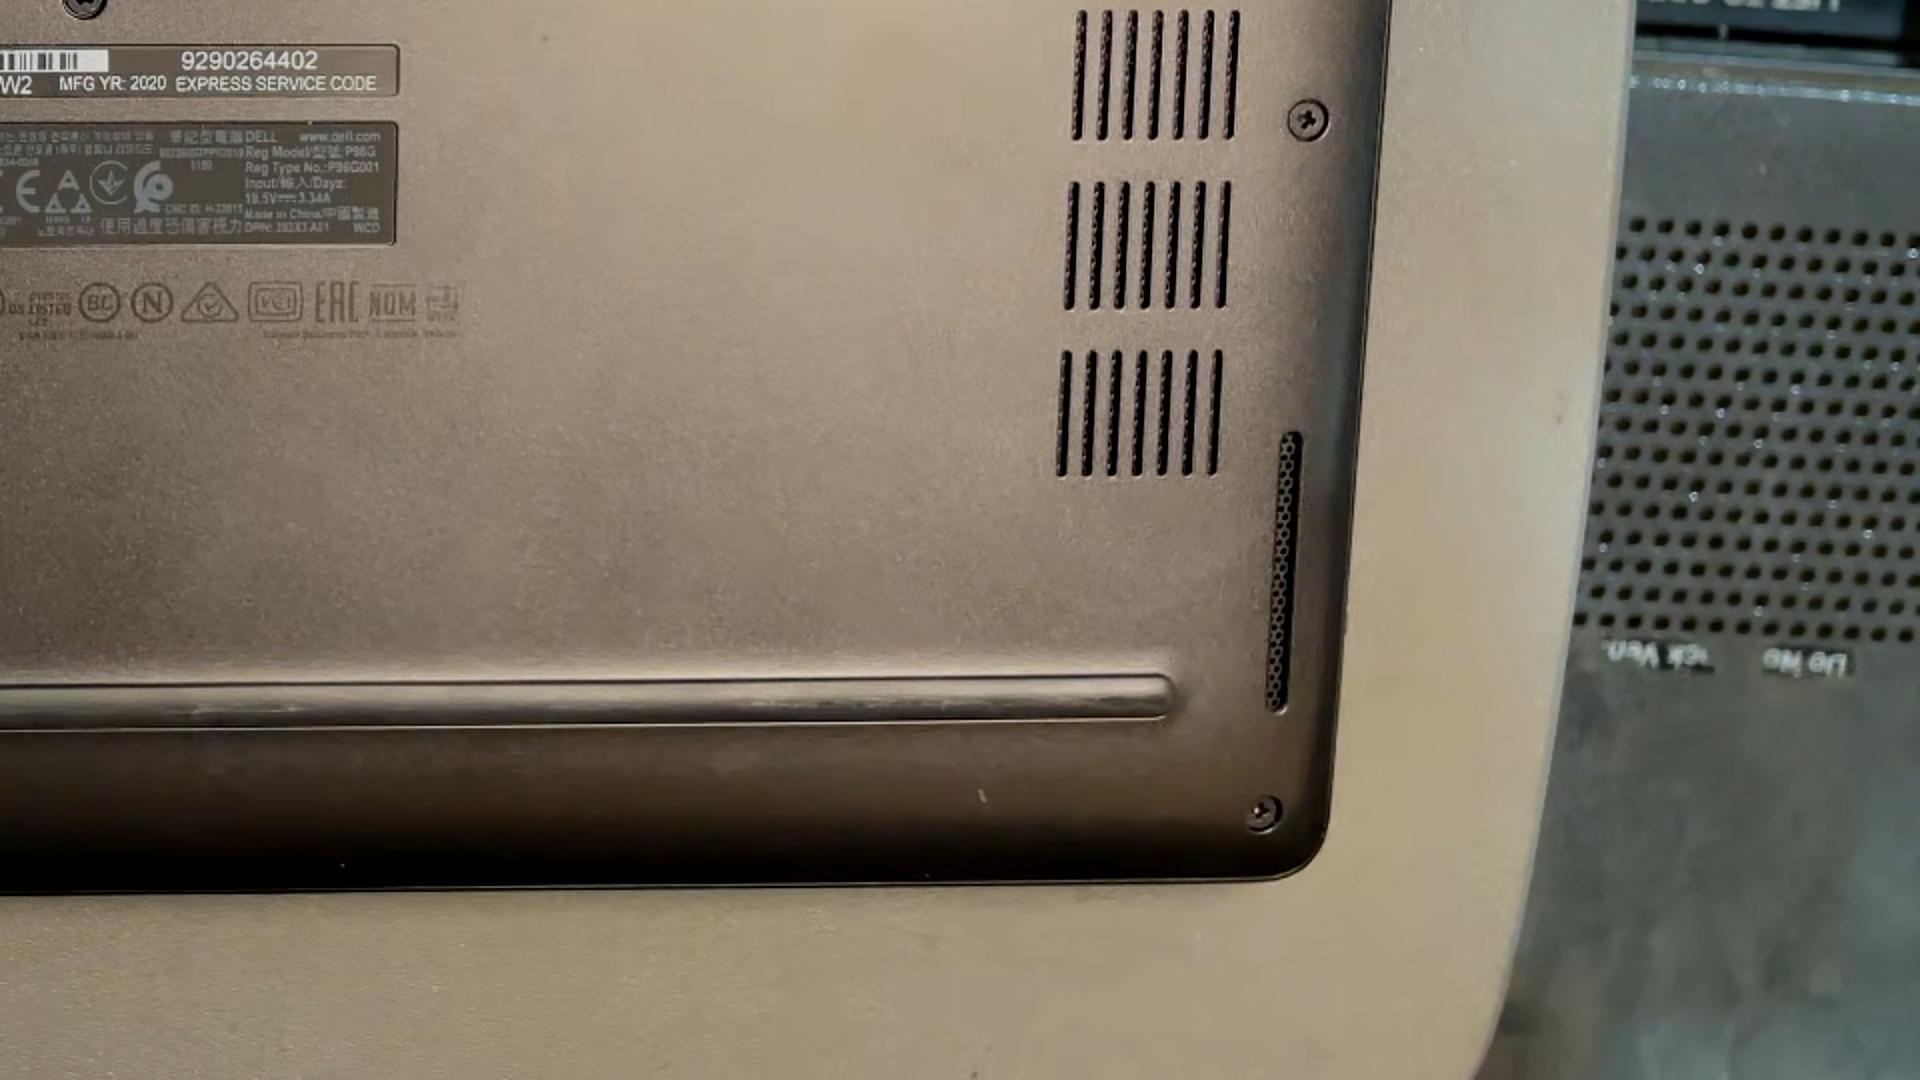scratches: (969, 780, 993, 811)
